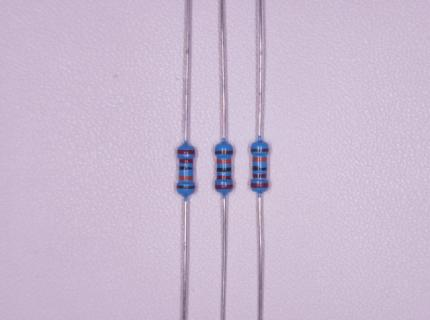Black band: (179, 166, 193, 170), (217, 168, 231, 172), (253, 166, 267, 170)
Brown band: (177, 185, 195, 189), (251, 148, 269, 152), (215, 151, 233, 154)
Orange band: (179, 176, 193, 180), (217, 160, 231, 164), (253, 158, 267, 161)
Red band: (217, 175, 231, 180), (178, 150, 195, 154), (216, 185, 232, 189), (252, 183, 268, 187), (180, 159, 193, 163), (253, 174, 266, 178)
